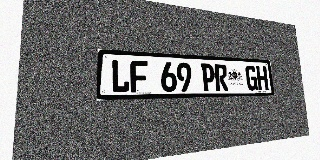6: (160, 62, 177, 92)
9: (176, 62, 192, 92)
F: (130, 60, 148, 92)
G: (245, 65, 258, 91)
H: (256, 66, 268, 90)
L: (111, 59, 130, 93)
P: (201, 63, 215, 91)
R: (214, 64, 228, 91)
